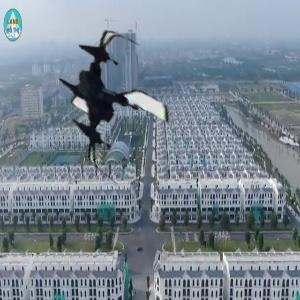drone: (45, 35, 188, 178)
